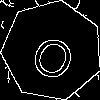O: (27, 25, 82, 83)
